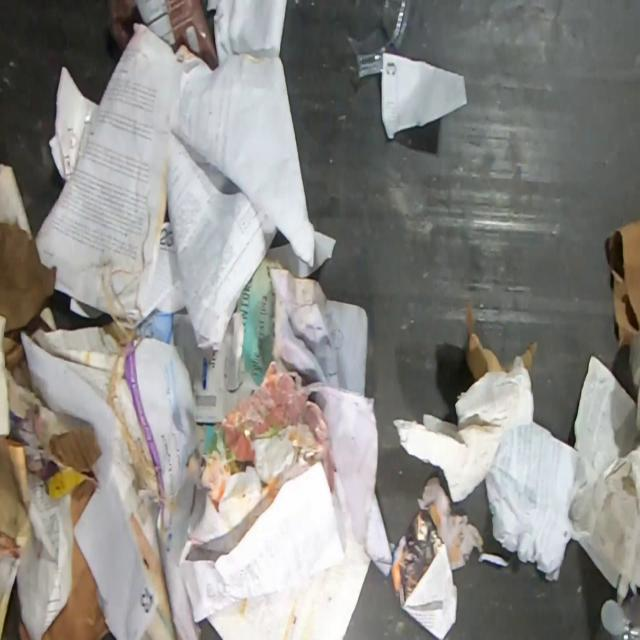cardboard: (394, 300, 538, 502), (124, 333, 202, 640), (391, 474, 484, 640), (107, 0, 219, 70), (38, 539, 111, 640)
rigid_plastic: (344, 0, 413, 80), (600, 593, 640, 640)
